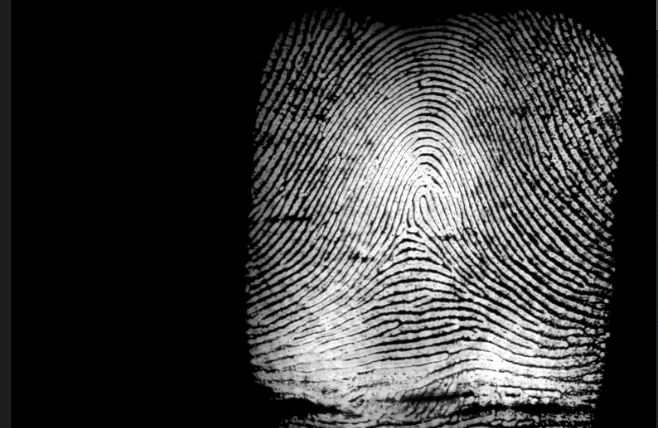deltas: (387, 215, 424, 257)
nucleo: (407, 174, 447, 219)
